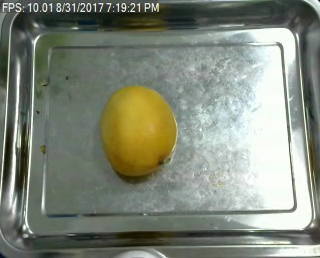Mango: (101, 83, 179, 176)
